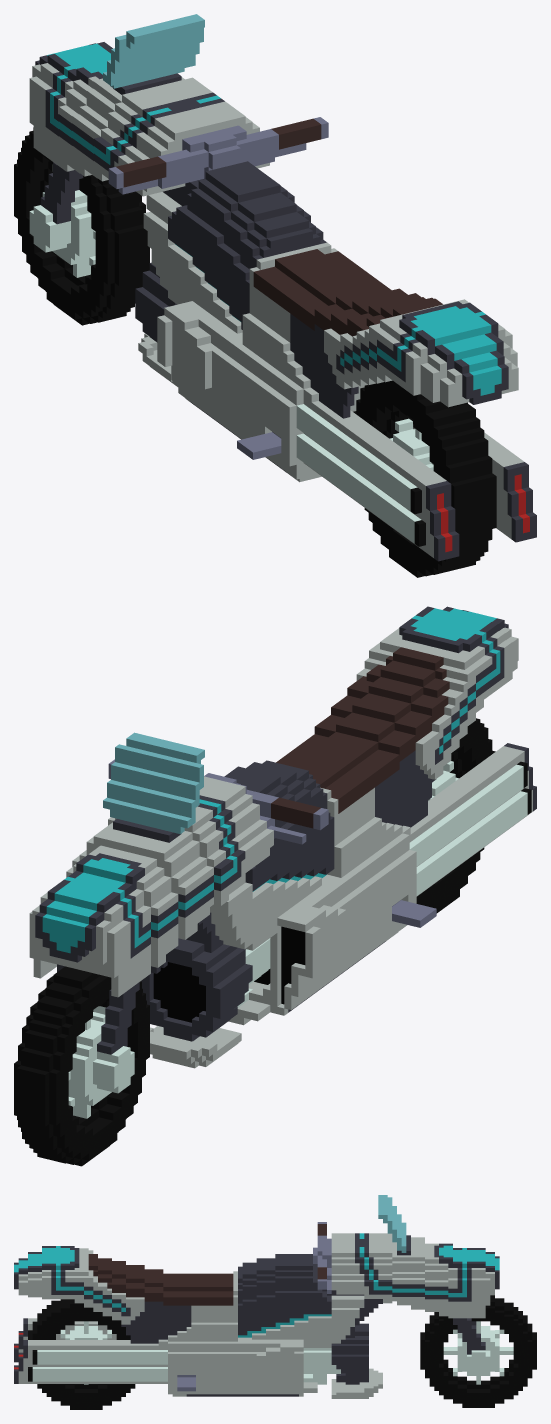
Rendered from SM_Character_Bike.fbx.
3 renders of one model, top to bottom at view 1: azimuth 30°, elevation 25°; view 2: azimuth 150°, elevation 25°; view 3: azimuth 270°, elevation 25°, orthographic. The views are drawn at different scales.
Visible parts, largest first — view 1: SM_Character_Bike; view 2: SM_Character_Bike; view 3: SM_Character_Bike.
Boxes of the visible parts, <box> form: SM_Character_Bike: <box>14,14,536,577</box>; SM_Character_Bike: <box>14,606,536,1166</box>; SM_Character_Bike: <box>14,1195,536,1409</box>.
Size of the model in its own units: 120 by 188 by 448.
Materials: 3 (1 with a texture image).
